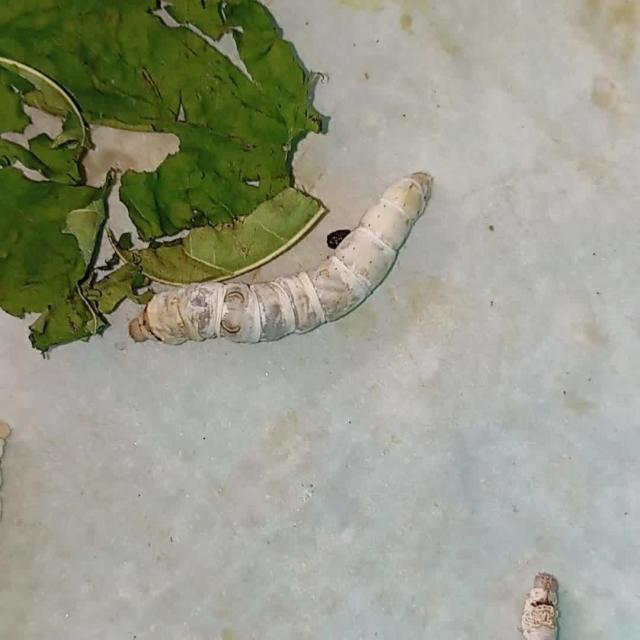Grasserie: (98, 158, 518, 368)
